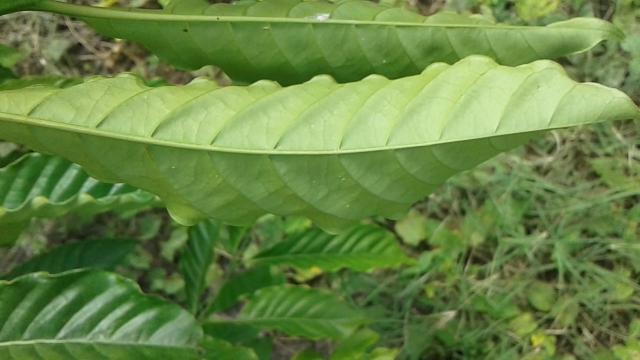healthy: (0, 54, 640, 234)
